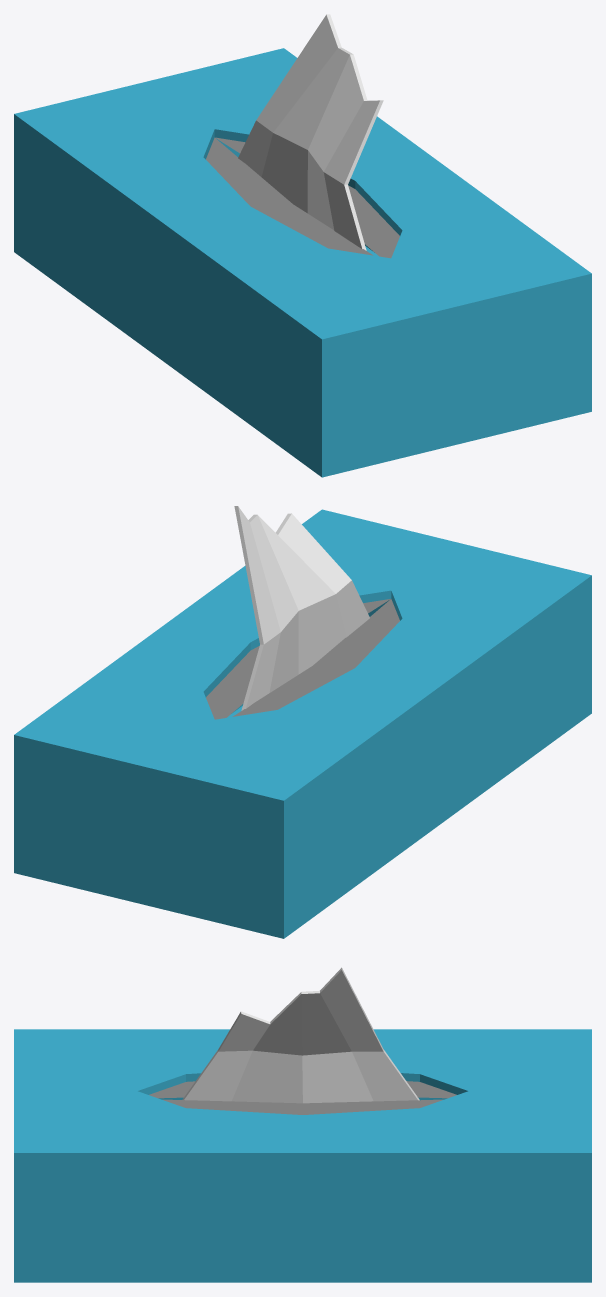
Rendered from Tissues Box.fbx.
3 renders of one model, top to bottom at view 1: azimuth 30°, elevation 25°; view 2: azimuth 150°, elevation 25°; view 3: azimuth 270°, elevation 25°, orthographic. The views are drawn at different scales.
Parts seen in each view (by area): view 1: Tissues Box; view 2: Tissues Box; view 3: Tissues Box.
Part boxes in pixels (left/top/right/bottom): Tissues Box: left=14, top=14, right=591, bottom=477; Tissues Box: left=14, top=506, right=591, bottom=938; Tissues Box: left=14, top=967, right=591, bottom=1282.
Bounding box in the file's own units: 14.48 × 14.94 × 28.62.
